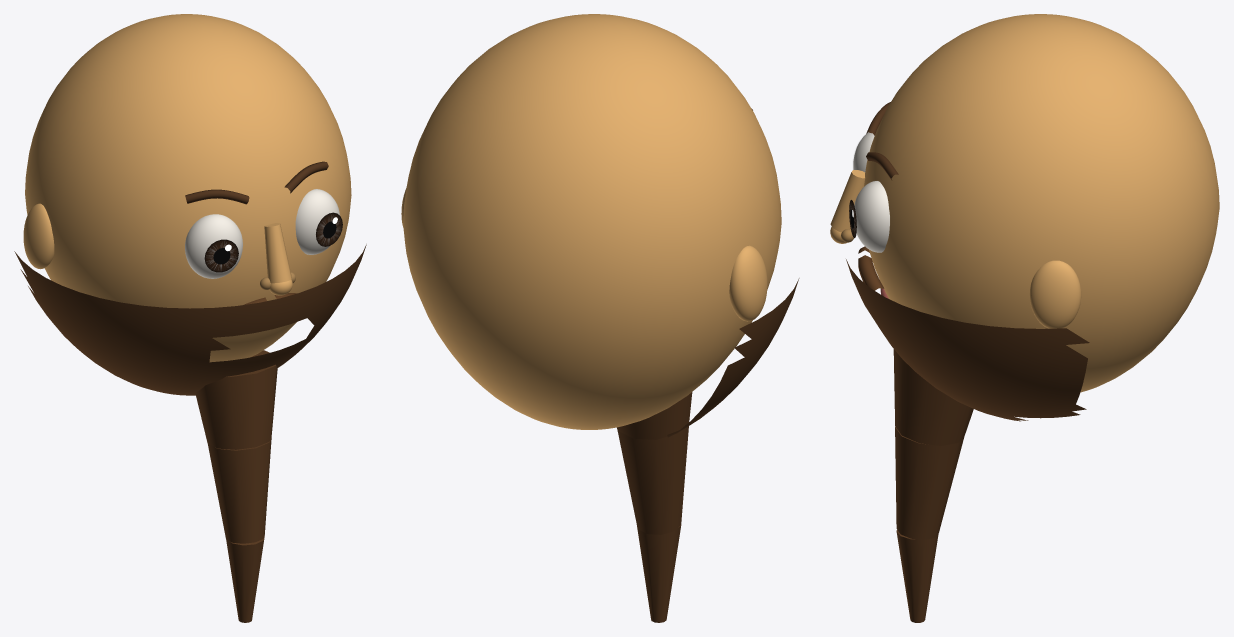
Rendered from 06-longue.glb.
3 views of the same model, side by side, from view 1: azimuth 30°, elevation 25°; view 2: azimuth 150°, elevation 25°; view 3: azimuth 270°, elevation 25° (orthographic). The views are drawn at different scales.
Bounding box in the file's own units: 0.3138 × 0.5305 × 0.3166.
Materials: 10 (1 with a texture image).
